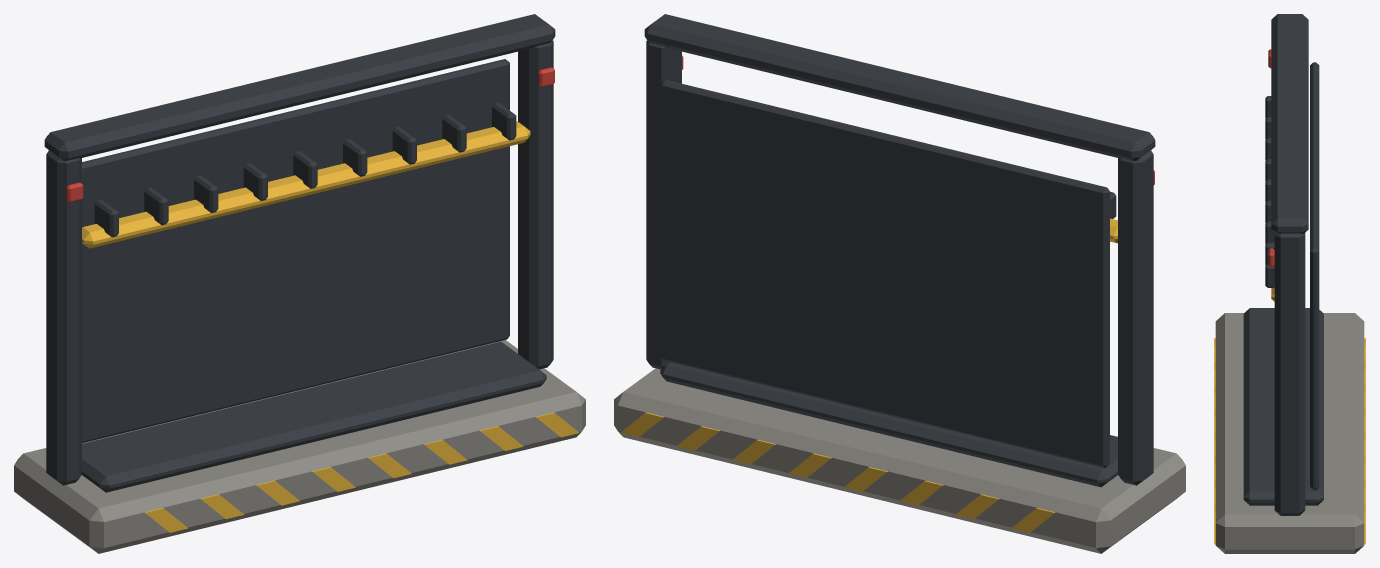
Rendered from weapon_rack.obj.
3 renders of one model, left to right at view 1: azimuth 30°, elevation 25°; view 2: azimuth 150°, elevation 25°; view 3: azimuth 270°, elevation 25°, orthographic. The views are drawn at different scales.
Parts seen in each view (by area): view 1: weapon_rack; view 2: weapon_rack; view 3: weapon_rack.
Boxes of the visible parts, x1,y1,x2,y2 form: weapon_rack: [14, 14, 585, 553]; weapon_rack: [614, 14, 1185, 553]; weapon_rack: [1214, 14, 1365, 553].
Size of the model in its own units: 1.6 by 1.2 by 0.49.
